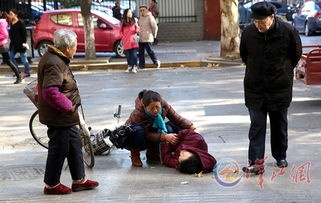fall: (154, 116, 222, 176)
